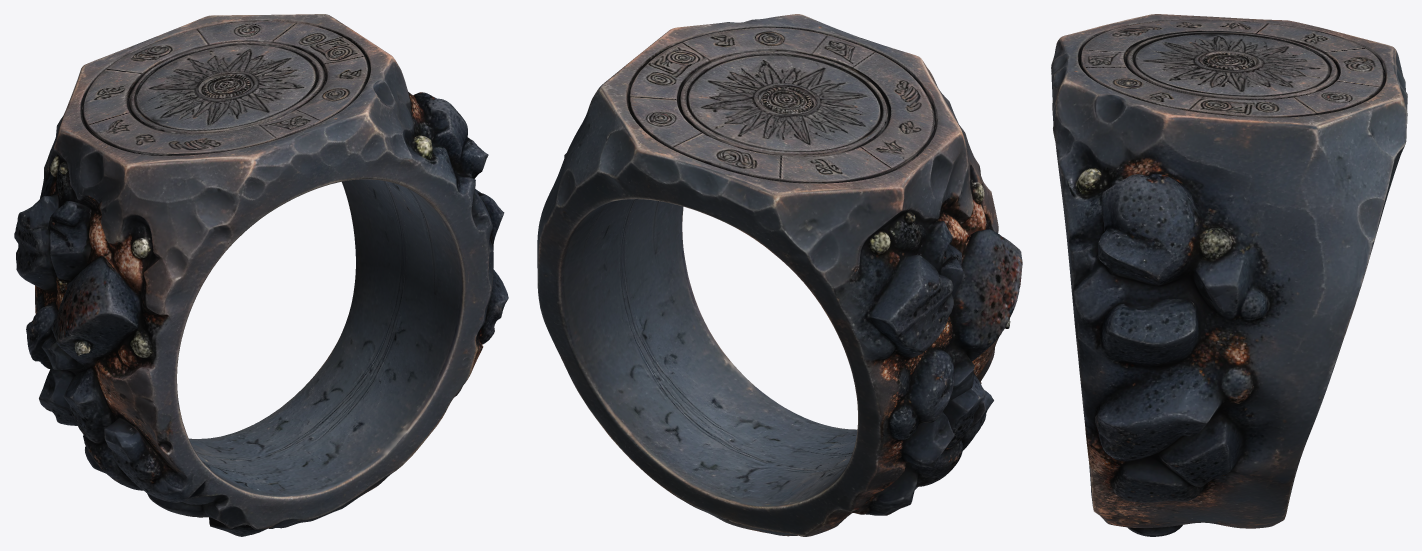
Rendered from pixellabs-signet-ring-5785.glb.
3 renders of one model, left to right at view 1: azimuth 30°, elevation 25°; view 2: azimuth 150°, elevation 25°; view 3: azimuth 270°, elevation 25°, orthographic. The views are drawn at different scales.
Parts seen in each view (by area): view 1: node_0; view 2: node_0; view 3: node_0.
Boxes of the visible parts, x1,y1,x2,y2 form: node_0: (14, 14, 508, 536); node_0: (537, 14, 1022, 536); node_0: (1051, 14, 1407, 536).
Size of the model in its own units: 1.02 by 1.01 by 0.6939.
1 material, 1 textured.
